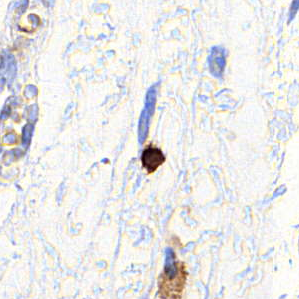Lymphocyte: (139, 143, 166, 171)
